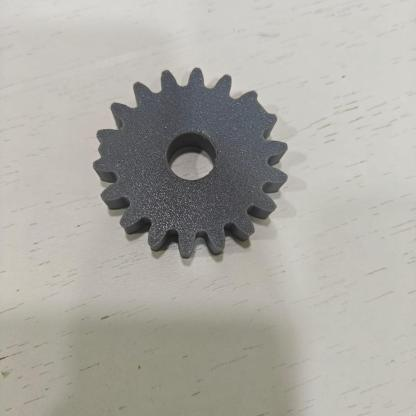defect: (219, 83, 298, 158), (84, 118, 151, 198)
gear: (66, 54, 324, 276)
